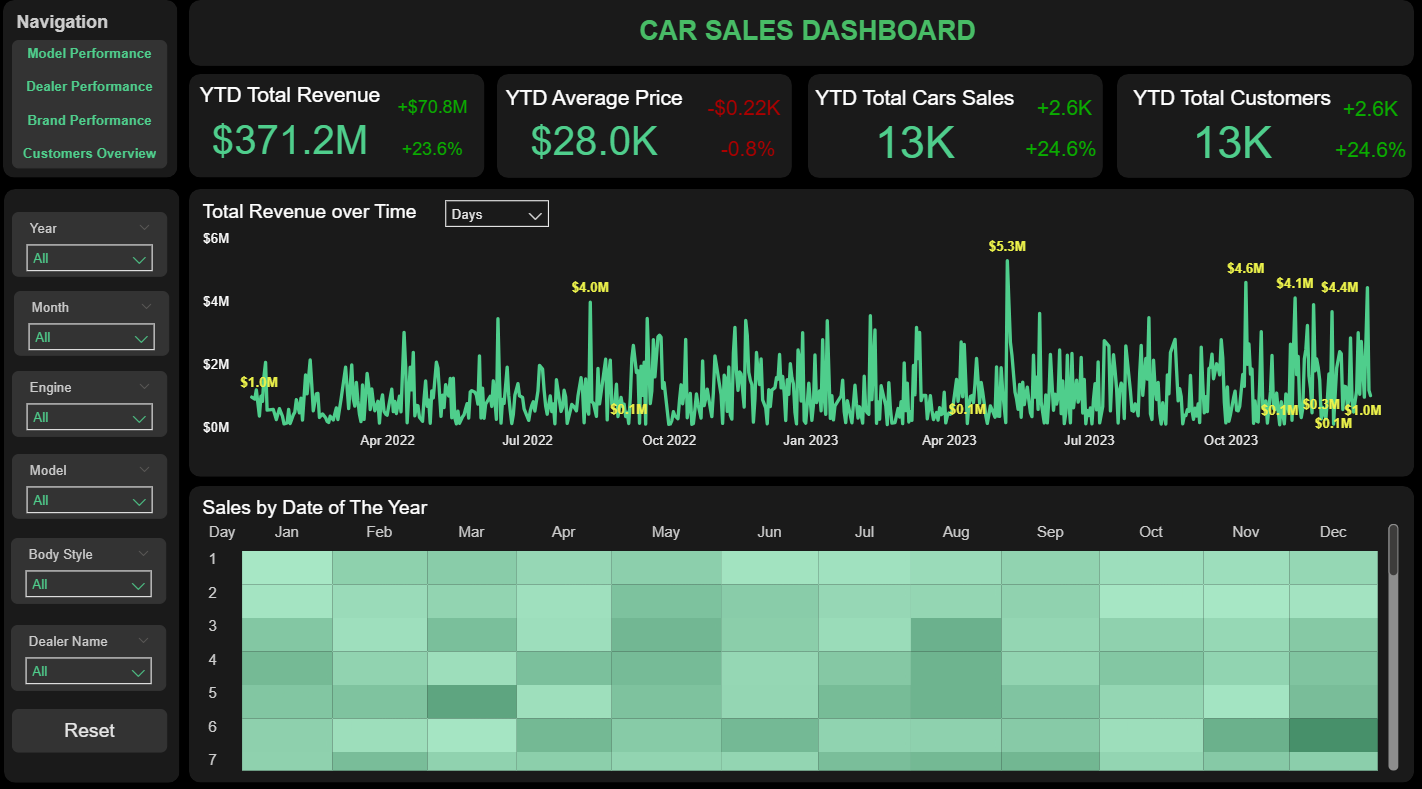

This screenshot's page, from the dashboard's own definition file:
{"tool":"powerbi","page":{"name":"Sales Overtime ","canvas":[1280,720],"ordinal":0},"visuals":[{"type":"shape","box":[1003,72.5,264.2,93.1],"z":0},{"type":"shape","box":[726.3,72.5,264.2,93.1],"z":1000},{"type":"shape","box":[5.5,6.4,156.4,159.1],"z":2000},{"type":"shape","box":[171.9,6.3,1097,59.1],"z":3000},{"type":"shape","box":[6.4,175.5,157.3,531.8],"z":4000},{"type":"shape","box":[447.8,72.5,264.2,93.1],"z":5000},{"type":"shape","box":[171.8,72.7,264.5,92.7],"z":6000},{"type":"shape","box":[172.2,175.1,1097.1,257.8],"z":7000},{"type":"shape","box":[172.2,441.6,1097.1,265.5],"z":8000},{"type":"slicer","fields":{"Values":["DateTable.Year"]},"box":[13.6,196.4,139.1,58.2],"z":9000},{"type":"lineChart","title":"Total Revenue over Time","fields":{"Category":["DateTable.Date"],"Y":["Measrure.Total Revenue"]},"box":[172.8,183.6,1094.3,249.9],"z":10000},{"type":"slicer","fields":{"Values":["Car Model.Engine"]},"box":[13.6,338.2,139.1,59.1],"z":11000},{"type":"slicer","fields":{"Values":["Car Model.Model"]},"box":[13.6,412.7,139.1,58.2],"z":12000},{"type":"slicer","fields":{"Values":["Dealer.Dealer_Name"]},"box":[12.7,566.4,139.1,59.1],"z":13000},{"type":"slicer","fields":{"Values":["Car Model.Body Style"]},"box":[12.7,488.2,139.1,59.1],"z":14000},{"type":"card","title":"YTD Total Revenue","fields":{"Values":["Measrure.YTD Revenue"]},"box":[171.8,87.3,138.2,78.2],"z":15000},{"type":"textbox","box":[456.2,15.6,539.8,39.9],"z":16000},{"type":"textbox","box":[12.6,12.6,96.3,29.2],"z":17000},{"type":"actionButton","box":[13.6,640.9,139.1,39.1],"z":18000},{"type":"slicer","fields":{"Values":["DateTable.Month Name"]},"box":[15.5,267.3,139.1,58.2],"z":19000},{"type":"slicer","fields":{"Values":["Parameter.Parameter"]},"box":[391.3,175.5,112.8,42.1],"z":20000},{"type":"pivotTable","title":"Sales by Date of The Year","fields":{"Values":["Measrure.Total Revenue"],"Rows":["DateTable.Day"],"Columns":["DateTable.Month Name"]},"box":[179,450.3,1080.6,250.9],"z":21000},{"type":"pageNavigator","box":[13.6,41.8,139.1,114.5],"z":22000},{"type":"card","fields":{"Values":["Sales.Revenue Diff and Icon"]},"box":[310,72.7,68.2,46.4],"z":23000},{"type":"card","fields":{"Values":["Measrure.YOY Revenue Growth and Icon"]},"box":[375.4,72.9,61.3,45.7],"z":24000},{"type":"card","fields":{"Values":["Measrure.Avg Sale Price Diff and Icon"]},"box":[592.7,72.7,64.5,46.4],"z":25000},{"type":"card","fields":{"Values":["Measrure.YOY Avg Price Growth and Icon"]},"box":[657.5,72.9,54.5,45.7],"z":26000},{"type":"card","title":" YTD Average Price","fields":{"Values":["Measrure.YTD Avg Sale Price"]},"box":[451.3,86.9,145.1,78.8],"z":27000},{"type":"card","title":"YTD Total Cars Sales","fields":{"Values":["Measrure.YTD Total Cars Sold"]},"box":[726.4,87.3,153.6,78.2],"z":28000},{"type":"card","fields":{"Values":["Measrure.Total Cars Sold Diff and Icon"]},"box":[880,72.7,49.1,46.4],"z":29000},{"type":"card","fields":{"Values":["Measure.YOY Total Cars Sold Growth and Icon"]},"box":[928.9,72.9,62.2,45.7],"z":30000},{"type":"card","title":"YTD Total Customers","fields":{"Values":["Measure.YTD Total Customers"]},"box":[1002.7,87.3,153.6,78.2],"z":31000},{"type":"card","fields":{"Values":["Measure.Total Customers Diff and Icon"]},"box":[1156.4,72.7,51.8,46.4],"z":32000},{"type":"card","fields":{"Values":["Measure.YOY Total Customers Growth and Icon"]},"box":[1205.1,72.9,62.2,45.7],"z":33000},{"type":"lineChart","fields":{"Category":["DateTable.Month Number"],"Y":["Measure.Total Revenue"]},"box":[304.5,86,163.9,78.8],"z":34000},{"type":"lineChart","fields":{"Category":["DateTable.Month Number"],"Y":["Measure.Average Sale Price"]},"box":[580.3,99.4,160.3,65.4],"z":35000},{"type":"lineChart","fields":{"Category":["DateTable.Month Number"],"Y":["Measure.Total Cars Sold"]},"box":[873.1,96.7,137,68.1],"z":36000},{"type":"lineChart","fields":{"Category":["DateTable.Month Number"],"Y":["Customer.Total Customers"]},"box":[1151.6,96.7,128.1,68.1],"z":37000}]}

Visuals, with their boxes in screenshot pixels (x1, y1, x2, y2), scaled from the page's 1280x720 canvas onto the 1422x789 screenshot:
shape: l=1114, t=79, r=1408, b=181
shape: l=807, t=79, r=1100, b=181
shape: l=6, t=7, r=180, b=181
shape: l=191, t=7, r=1410, b=72
shape: l=7, t=192, r=182, b=775
shape: l=497, t=79, r=791, b=181
shape: l=191, t=80, r=485, b=181
shape: l=191, t=192, r=1410, b=474
shape: l=191, t=484, r=1410, b=775
slicer - DateTable.Year: l=15, t=215, r=170, b=279
"Total Revenue over Time" lineChart: l=192, t=201, r=1408, b=475
slicer - Car Model.Engine: l=15, t=371, r=170, b=435
slicer - Car Model.Model: l=15, t=452, r=170, b=516
slicer - Dealer.Dealer_Name: l=14, t=621, r=169, b=685
slicer - Car Model.Body Style: l=14, t=535, r=169, b=600
"YTD Total Revenue" card: l=191, t=96, r=344, b=181
textbox: l=507, t=17, r=1106, b=61
textbox: l=14, t=14, r=121, b=46
actionButton: l=15, t=702, r=170, b=745
slicer - DateTable.Month Name: l=17, t=293, r=172, b=357
slicer - Parameter.Parameter: l=435, t=192, r=560, b=238
"Sales by Date of The Year" pivotTable: l=199, t=493, r=1399, b=768
pageNavigator: l=15, t=46, r=170, b=171
card - Sales.Revenue Diff and Icon: l=344, t=80, r=420, b=131
card - Measrure.YOY Revenue Growth and Icon: l=417, t=80, r=485, b=130
card - Measrure.Avg Sale Price Diff and Icon: l=658, t=80, r=730, b=131
card - Measrure.YOY Avg Price Growth and Icon: l=730, t=80, r=791, b=130
" YTD Average Price" card: l=501, t=95, r=663, b=182
"YTD Total Cars Sales" card: l=807, t=96, r=978, b=181
card - Measrure.Total Cars Sold Diff and Icon: l=978, t=80, r=1032, b=131
card - Measure.YOY Total Cars Sold Growth and Icon: l=1032, t=80, r=1101, b=130
"YTD Total Customers" card: l=1114, t=96, r=1285, b=181
card - Measure.Total Customers Diff and Icon: l=1285, t=80, r=1342, b=131
card - Measure.YOY Total Customers Growth and Icon: l=1339, t=80, r=1408, b=130
lineChart - DateTable.Month Number x Measure.Total Revenue: l=338, t=94, r=520, b=181
lineChart - DateTable.Month Number x Measure.Average Sale Price: l=645, t=109, r=823, b=181
lineChart - DateTable.Month Number x Measure.Total Cars Sold: l=970, t=106, r=1122, b=181
lineChart - DateTable.Month Number x Customer.Total Customers: l=1279, t=106, r=1421, b=181
